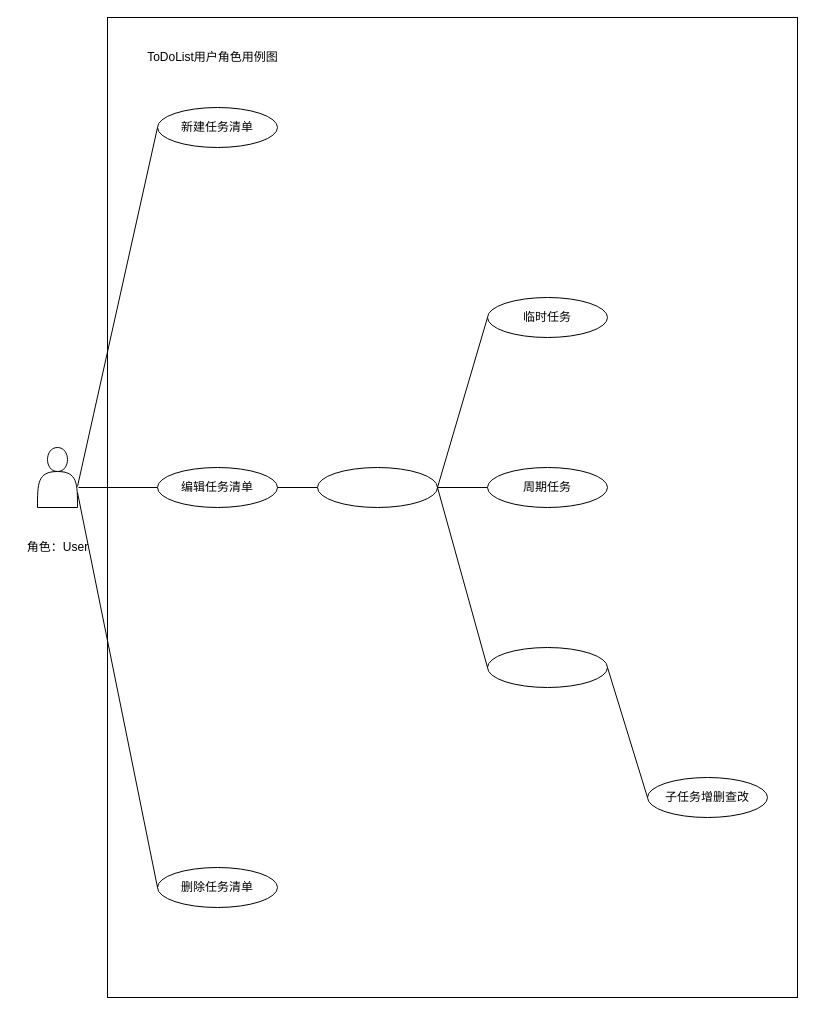
Some shapes in this 815 by 1015 pixel diagram are drawn without their labels. Each missing label, with the box of its shape:
任务增删查改: (316, 466, 438, 508)
长期任务: (486, 646, 608, 688)
